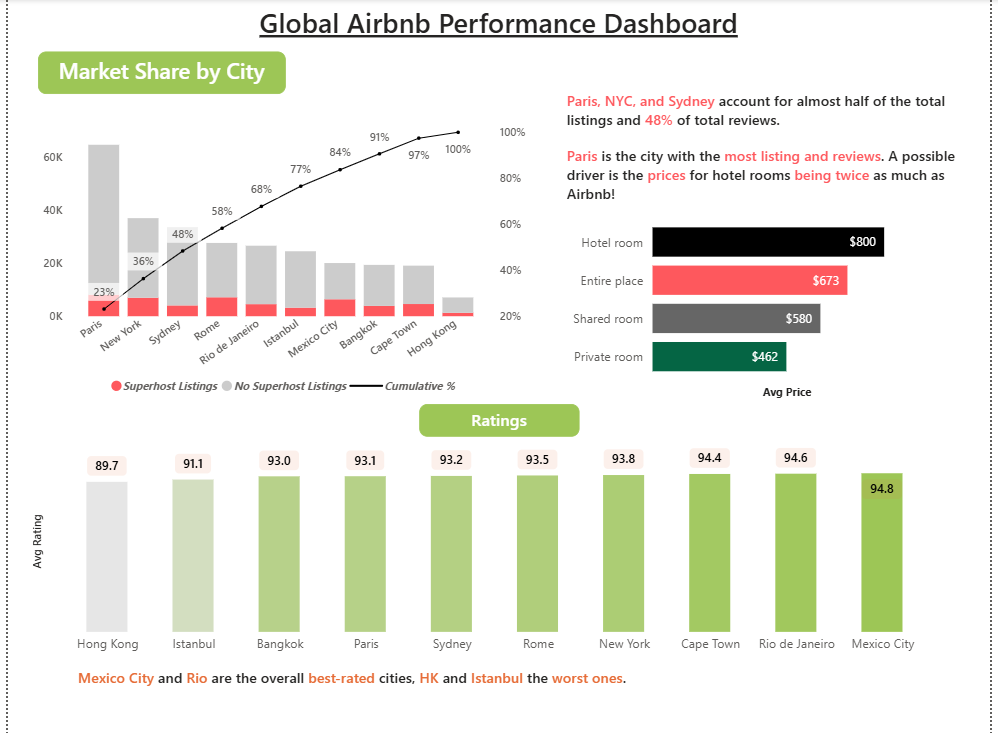

This screenshot's page, from the dashboard's own definition file:
{"tool":"powerbi","page":{"name":"Ratings","canvas":[960,720],"ordinal":1},"visuals":[{"type":"textbox","box":[238.5,0,483,51.4],"z":0},{"type":"textbox","box":[29.3,51.4,242.1,41.6],"z":1000},{"type":"textbox","box":[541.7,84.4,418.2,123.5],"z":2000},{"type":"lineStackedColumnComboChart","fields":{"Category":["Listings.city"],"Y":["Listings.Superhost Listings","Listings.No Superhost Listings"],"Y2":["Listings.Cumulative %"]},"box":[29.3,114.9,483,281.3],"z":3000},{"type":"barChart","fields":{"Category":["Listings.room_type"],"Y":["Listings.Avg Price"]},"box":[541.7,195.7,357.1,200.5],"z":4000},{"type":"columnChart","fields":{"Category":["Listings.city"],"Y":["Listings.Avg Rating"]},"box":[19.6,428,896.3,221.3],"z":5000},{"type":"textbox","box":[183.4,649.3,776.5,70.9],"z":6000},{"type":"textbox","box":[402.3,396.2,156.5,31.8],"z":7000}]}

Visuals, with their boxes in screenshot pixels (x1, y1, x2, y2), scaled from the page's 960x720 canvas onto the 998x733 screenshot:
textbox: bbox(248, 0, 750, 52)
textbox: bbox(30, 52, 282, 95)
textbox: bbox(563, 86, 997, 212)
lineStackedColumnComboChart - Listings.city x Listings.Superhost Listings: bbox(30, 117, 533, 403)
barChart - Listings.room_type x Listings.Avg Price: bbox(563, 199, 934, 403)
columnChart - Listings.city x Listings.Avg Rating: bbox(20, 436, 952, 661)
textbox: bbox(191, 661, 997, 732)
textbox: bbox(418, 403, 581, 436)
